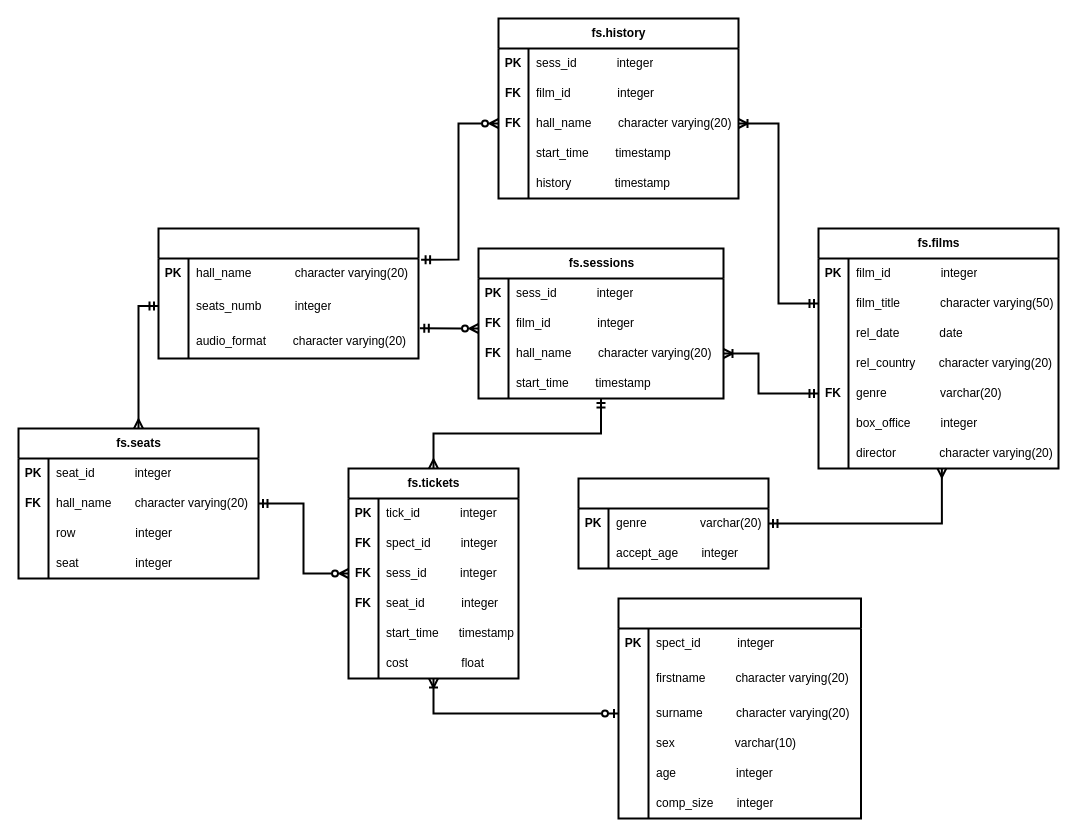
Some shapes in this 1076 by 836 pixel diagram are drawn without their labels. The box of each missing label's shape, as (x1, y1, x2, y2) in pixels:
fs.genre: (577, 477, 769, 569)
fs.halls: (157, 227, 419, 359)
fs.spectators: (617, 597, 862, 819)
